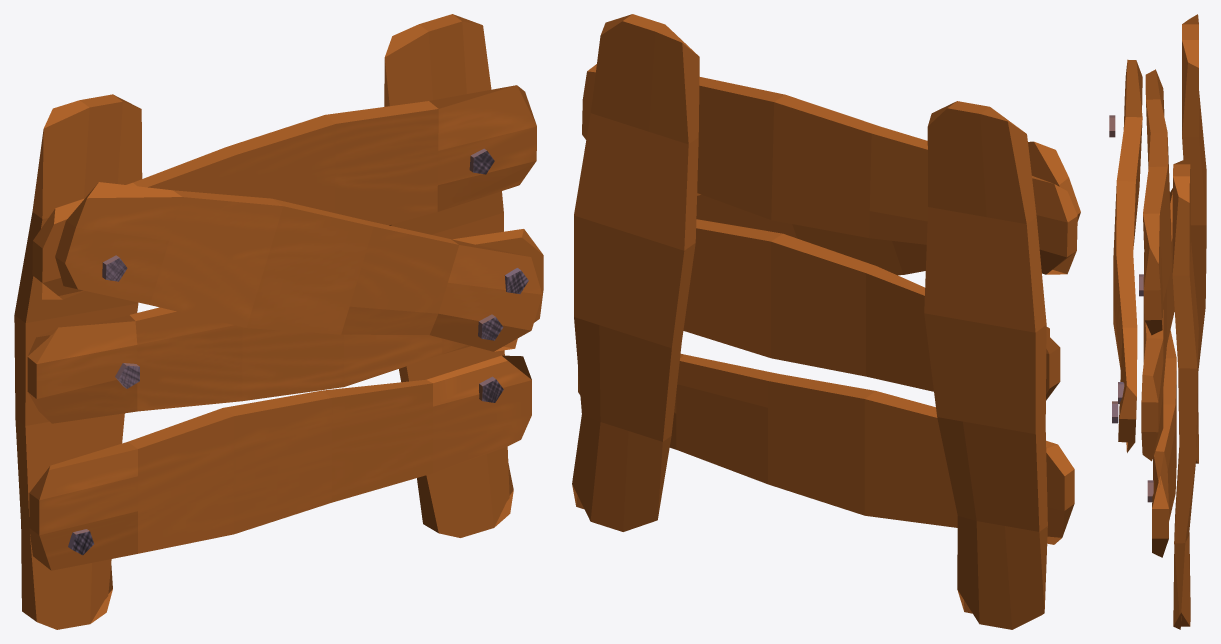
The model's file is Holzbalken.fbx.
The picture shows the model from 3 angles, left to right: view 1: azimuth 30°, elevation 25°; view 2: azimuth 150°, elevation 25°; view 3: azimuth 270°, elevation 25°; orthographic projection. The views are drawn at different scales.
Parts seen in each view (by area): view 1: Cube; view 2: Cube; view 3: Cube.
Boxes of the visible parts, left/top/right/bottom form: Cube: left=14, top=14, right=543, bottom=629; Cube: left=572, top=14, right=1080, bottom=629; Cube: left=1113, top=14, right=1206, bottom=629.
Bounding box in the file's own units: 997 × 987 × 199.
Materials: 1 (1 with a texture image).
